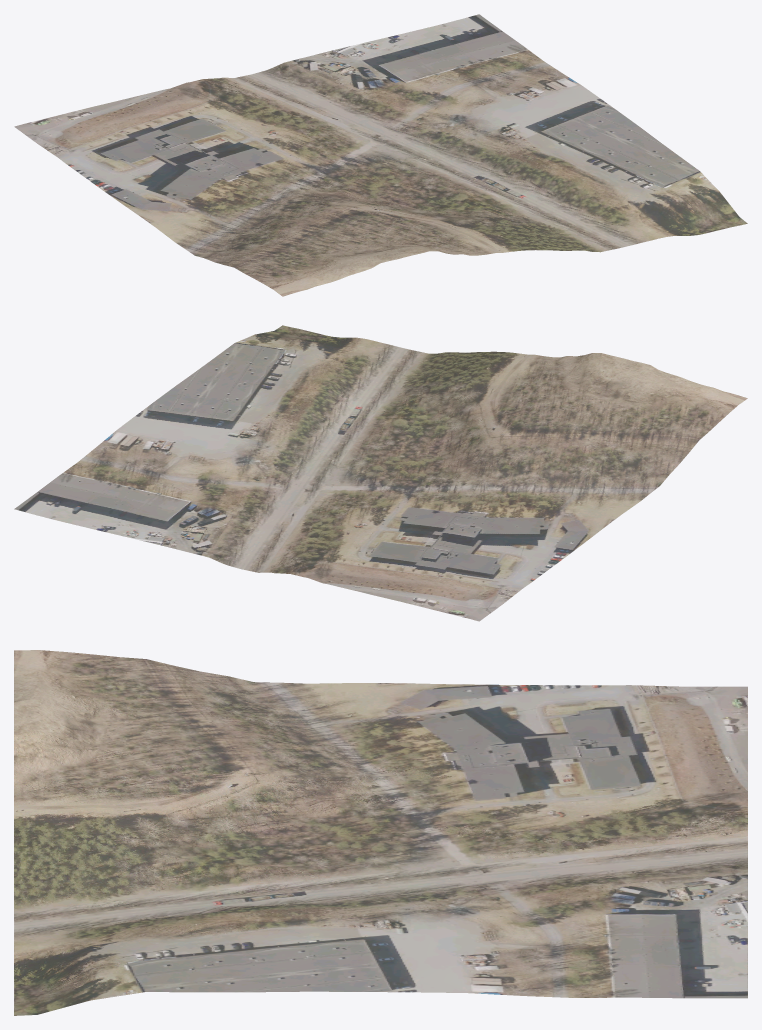
File: CM_Terrain_24492711_6816312.fbx
The picture shows the model from 3 angles, top to bottom: view 1: azimuth 30°, elevation 25°; view 2: azimuth 150°, elevation 25°; view 3: azimuth 270°, elevation 25°; orthographic projection. The views are drawn at different scales.
Visible parts, largest first — view 1: CM_Terrain_24492711_6816312_LOD0; view 2: CM_Terrain_24492711_6816312_LOD0; view 3: CM_Terrain_24492711_6816312_LOD0.
Part boxes in pixels (x1,y1,x2,y2): CM_Terrain_24492711_6816312_LOD0: (14,14,747,296); CM_Terrain_24492711_6816312_LOD0: (14,325,747,621); CM_Terrain_24492711_6816312_LOD0: (14,650,747,1015).
Size of what is drawn, in the model's own units: 205 by 21.12 by 205.
